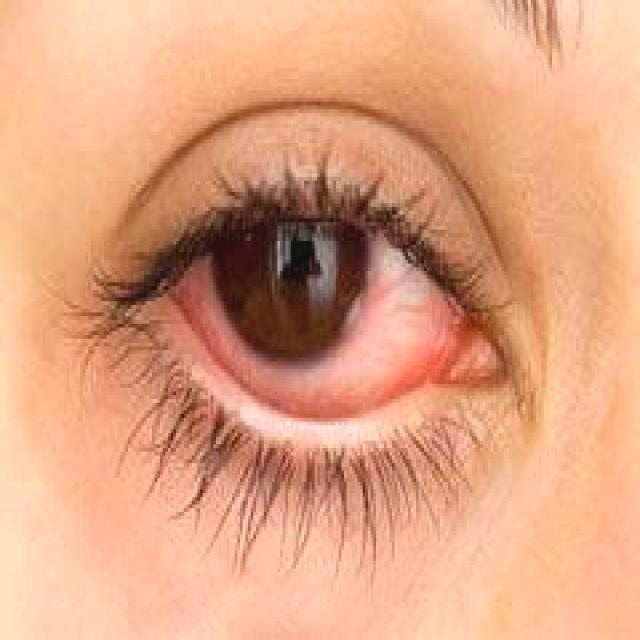Conjunctivitis: (145, 228, 500, 412)
